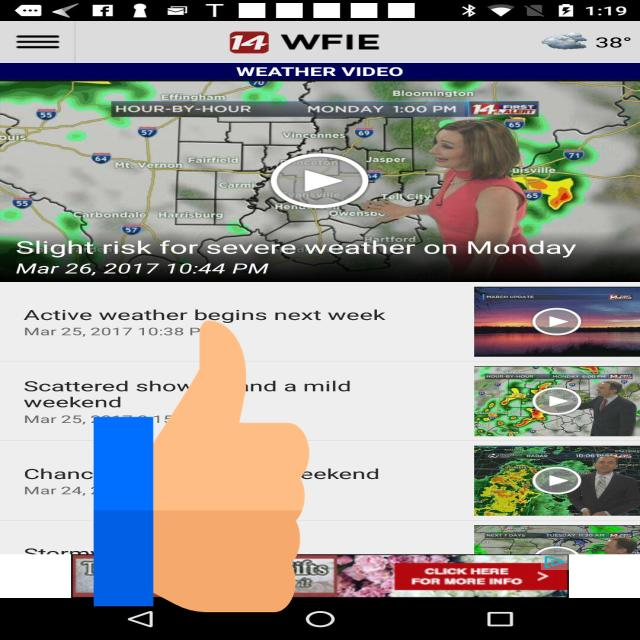privacy zuckering: (94, 314, 309, 620)
